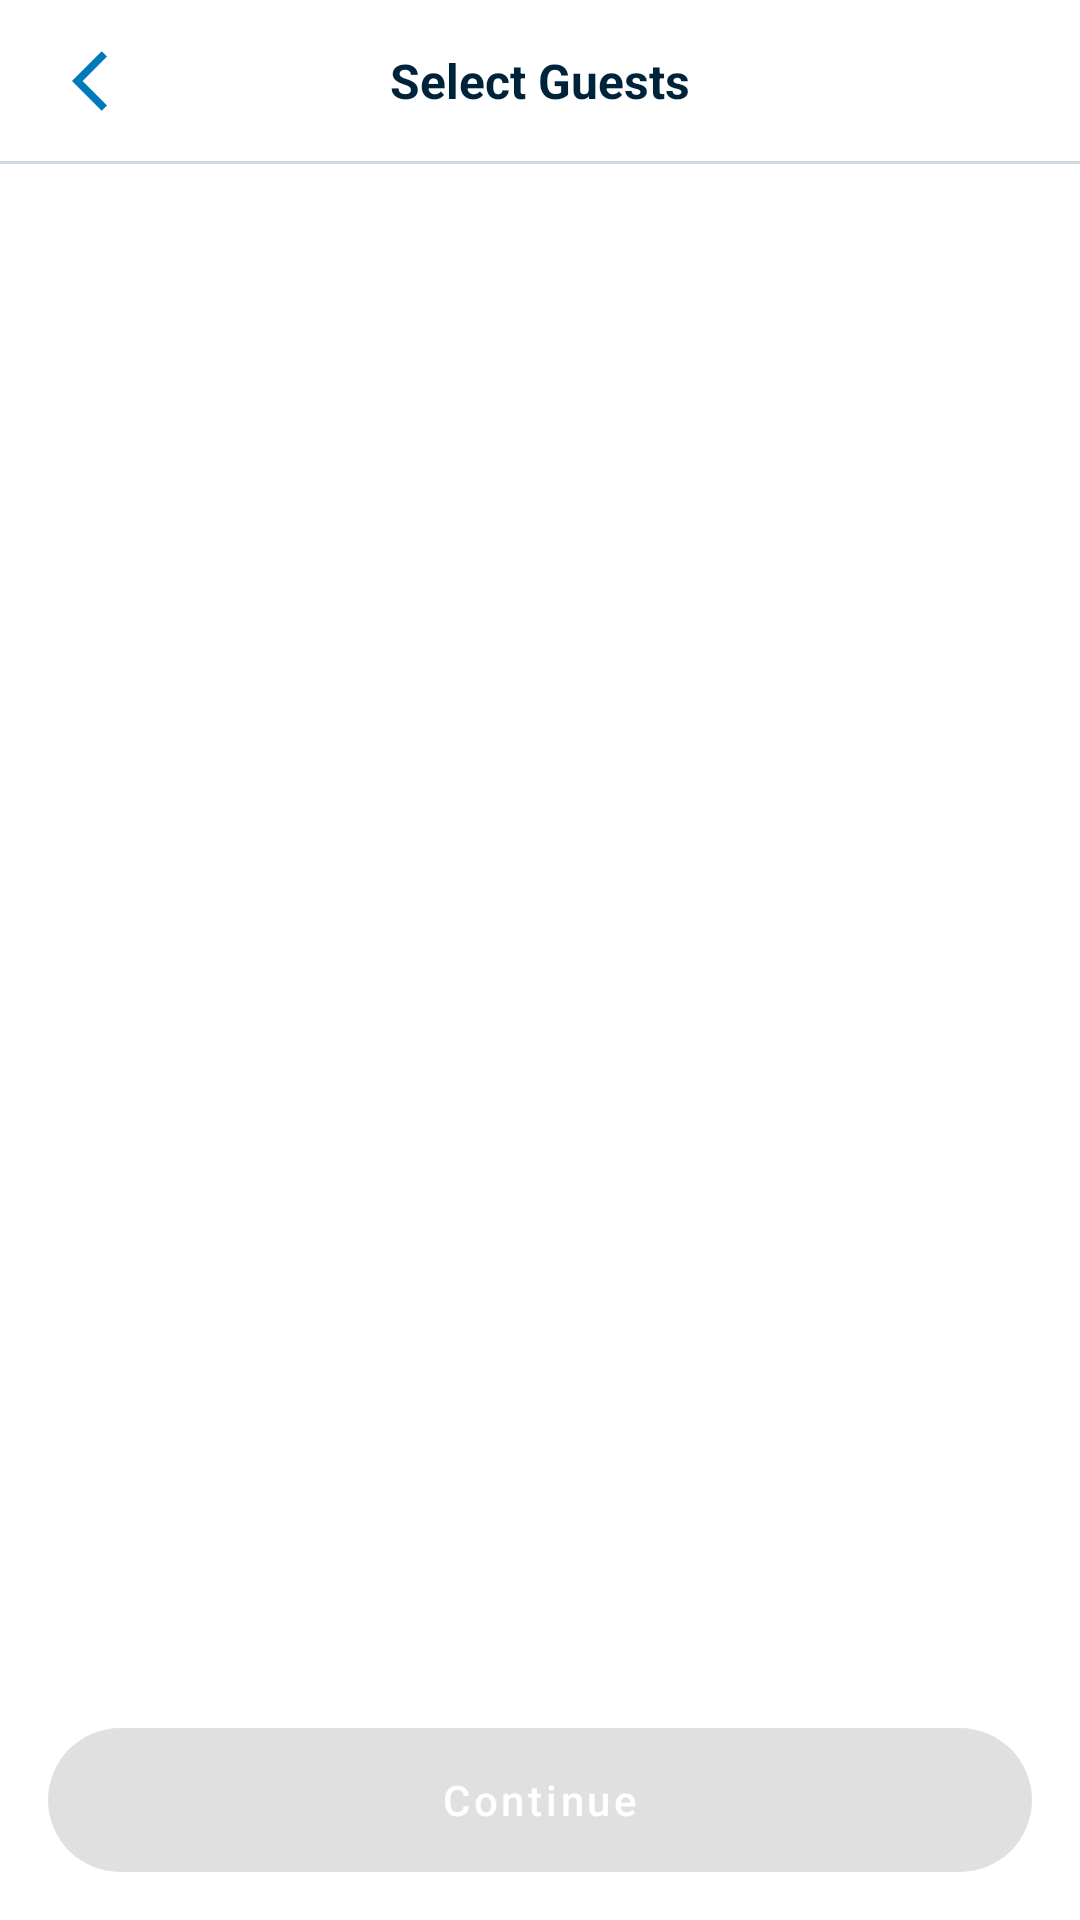

Icon click points for this 1080 x 1920 phone screenshot, format [x,y]:
Back Button: [89,81]
